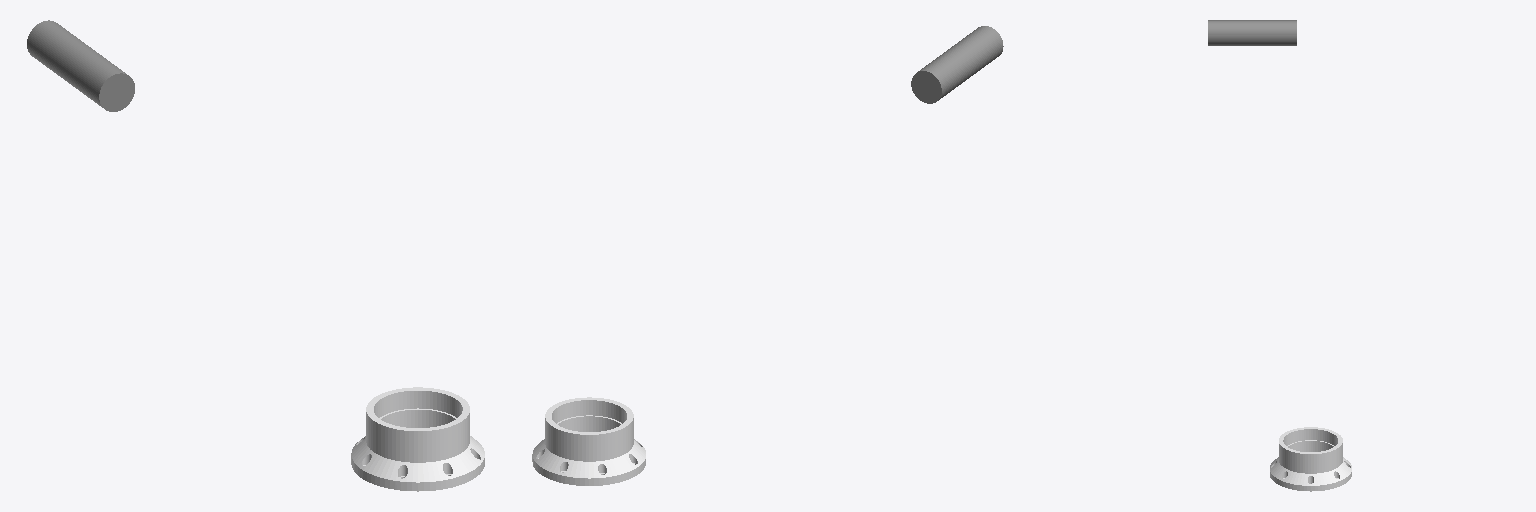
The robot description file, URDF, robot "urdfbot":
<robot name="urdfbot">
<link name="base_link">
<visual>
<origin xyz="1.7227260969490536535 0.27700031584743611823 0.24612486237179592719" rpy="-3.5469375559793907836e-16 -0 3.141592653589793116" />
<geometry>
<mesh filename="package://urdfbot_description/meshes/base_link.stl"/>
</geometry>
<material name="base_link_material">
<color rgba="0.96078431372549022438 0.96078431372549022438 0.96470588235294119084 1.0"/>
</material>
</visual>
<collision>
<origin xyz="1.7227260969490536535 0.27700031584743611823 0.24612486237179592719" rpy="-3.5469375559793907836e-16 -0 3.141592653589793116" />
<geometry>
<mesh filename="package://urdfbot_description/meshes/base_link.stl"/>
</geometry>
</collision>
<inertial>
<origin xyz="0 0 0" rpy="0 0 0"/>
<mass value="0" />
<inertia ixx="0" ixy="0"  ixz="0" iyy="0" iyz="0" izz="0" />
</inertial>
</link>

<link name="link1">
<visual>
<origin xyz="0.03250015792371752088 -0.10699999999999998401 -0.070000000000000062172" rpy="3.141592653589793116 1.9849778321506492044e-32 -7.6775902188929967409e-48" />
<geometry>
<mesh filename="package://urdfbot_description/meshes/link1.stl"/>
</geometry>
<material name="link1_material">
<color rgba="0.96078431372549022438 0.96078431372549022438 0.96470588235294119084 1.0"/>
</material>
</visual>
<collision>
<origin xyz="0.03250015792371752088 -0.10699999999999998401 -0.070000000000000062172" rpy="3.141592653589793116 1.9849778321506492044e-32 -7.6775902188929967409e-48" />
<geometry>
<mesh filename="package://urdfbot_description/meshes/link1.stl"/>
</geometry>
</collision>
<inertial>
<origin xyz="0 0 0" rpy="0 0 0"/>
<mass value="0" />
<inertia ixx="0" ixy="0"  ixz="0" iyy="0" iyz="0" izz="0" />
</inertial>
</link>

<link name="link2">
<visual>
<origin xyz="0 5.5511151231257827021e-17 -0.0040000000000000035527" rpy="1.570796326794896558 1.570796326794896558 0" />
<geometry>
<mesh filename="package://urdfbot_description/meshes/link2.stl"/>
</geometry>
<material name="link2_material">
<color rgba="0.62745098039215685404 0.62745098039215685404 0.62745098039215685404 1.0"/>
</material>
</visual>
<collision>
<origin xyz="0 5.5511151231257827021e-17 -0.0040000000000000035527" rpy="1.570796326794896558 1.570796326794896558 0" />
<geometry>
<mesh filename="package://urdfbot_description/meshes/link2.stl"/>
</geometry>
</collision>
<inertial>
<origin xyz="0 0 0" rpy="0 0 0"/>
<mass value="0" />
<inertia ixx="0" ixy="0"  ixz="0" iyy="0" iyz="0" izz="0" />
</inertial>
</link>

<link name="motor3">
<visual>
<origin xyz="-0.029777083599932918645 0.029999999999999971134 -0.18900000000000002909" rpy="2.9614347868533266562e-32 -1.9121081669451284926e-47 2.0449864956794634884e-48" />
<geometry>
<mesh filename="package://urdfbot_description/meshes/motor3.stl"/>
</geometry>
<material name="motor3_material">
<color rgba="0.62745098039215685404 0.62745098039215685404 0.62745098039215685404 1.0"/>
</material>
</visual>
<collision>
<origin xyz="-0.029777083599932918645 0.029999999999999971134 -0.18900000000000002909" rpy="2.9614347868533266562e-32 -1.9121081669451284926e-47 2.0449864956794634884e-48" />
<geometry>
<mesh filename="package://urdfbot_description/meshes/motor3.stl"/>
</geometry>
</collision>
<inertial>
<origin xyz="0 0 0" rpy="0 0 0"/>
<mass value="0" />
<inertia ixx="0" ixy="0"  ixz="0" iyy="0" iyz="0" izz="0" />
</inertial>
</link>

<joint name="joint4" type="fixed">
<origin xyz="0.45000000000000017764 5.5511151231257827021e-17 -0.0030000000000000581757" rpy="-3.141592653589793116 1.9121081669451284926e-47 -2.0449864956794634884e-48" />
<parent link="link2" />
<child link="motor3" />
<axis xyz="0 0 1"/>

</joint>

<link name="link3">
<visual>
<origin xyz="0.25000000000000022204 -0.11700000000000004841 -0.070000000000000006661" rpy="-1.570796326794896558 1.2883464875197931425e-31 -4.7158240237589775767e-17" />
<geometry>
<mesh filename="package://urdfbot_description/meshes/link3.stl"/>
</geometry>
<material name="link3_material">
<color rgba="0.62745098039215685404 0.62745098039215685404 0.62745098039215685404 1.0"/>
</material>
</visual>
<collision>
<origin xyz="0.25000000000000022204 -0.11700000000000004841 -0.070000000000000006661" rpy="-1.570796326794896558 1.2883464875197931425e-31 -4.7158240237589775767e-17" />
<geometry>
<mesh filename="package://urdfbot_description/meshes/link3.stl"/>
</geometry>
</collision>
<inertial>
<origin xyz="0 0 0" rpy="0 0 0"/>
<mass value="0" />
<inertia ixx="0" ixy="0"  ixz="0" iyy="0" iyz="0" izz="0" />
</inertial>
</link>

<link name="link4">
<visual>
<origin xyz="0 0 0" rpy="1.570796326794896558 1.570796326794896558 0" />
<geometry>
<mesh filename="package://urdfbot_description/meshes/link4.stl"/>
</geometry>
<material name="link4_material">
<color rgba="0.62745098039215685404 0.62745098039215685404 0.62745098039215685404 1.0"/>
</material>
</visual>
<collision>
<origin xyz="0 0 0" rpy="1.570796326794896558 1.570796326794896558 0" />
<geometry>
<mesh filename="package://urdfbot_description/meshes/link4.stl"/>
</geometry>
</collision>
<inertial>
<origin xyz="0 0 0" rpy="0 0 0"/>
<mass value="0" />
<inertia ixx="0" ixy="0"  ixz="0" iyy="0" iyz="0" izz="0" />
</inertial>
</link>

<link name="endeffector">
<visual>
<origin xyz="-0.021000000000000018652 -0.044267736659886716688 -0.0020000000000000017764" rpy="3.141592653589793116 -1.380379336551401247e-47 -1.0543268345982034461e-32" />
<geometry>
<mesh filename="package://urdfbot_description/meshes/endeffector.stl"/>
</geometry>
<material name="endeffector_material">
<color rgba="0.62745098039215685404 0.62745098039215685404 0.62745098039215685404 1.0"/>
</material>
</visual>
<collision>
<origin xyz="-0.021000000000000018652 -0.044267736659886716688 -0.0020000000000000017764" rpy="3.141592653589793116 -1.380379336551401247e-47 -1.0543268345982034461e-32" />
<geometry>
<mesh filename="package://urdfbot_description/meshes/endeffector.stl"/>
</geometry>
</collision>
<inertial>
<origin xyz="0 0 0" rpy="0 0 0"/>
<mass value="0" />
<inertia ixx="0" ixy="0"  ixz="0" iyy="0" iyz="0" izz="0" />
</inertial>
</link>

<link name="camera">
<visual>
<origin xyz="-0.0028298818114650403643 -0.0052382411106550175184 0.040793175428913697189" rpy="-2.3573741526866231034e-32 -6.2903186812521254127e-47 -5.3480498942879977652e-33" />
<geometry>
<mesh filename="package://urdfbot_description/meshes/camera.stl"/>
</geometry>
<material name="camera_material">
<color rgba="0 0.4000000000000000222 0.5999999999999999778 1.0"/>
</material>
</visual>
<collision>
<origin xyz="-0.0028298818114650403643 -0.0052382411106550175184 0.040793175428913697189" rpy="-2.3573741526866231034e-32 -6.2903186812521254127e-47 -5.3480498942879977652e-33" />
<geometry>
<mesh filename="package://urdfbot_description/meshes/camera.stl"/>
</geometry>
</collision>
<inertial>
<origin xyz="0 0 0" rpy="0 0 0"/>
<mass value="0" />
<inertia ixx="0" ixy="0"  ixz="0" iyy="0" iyz="0" izz="0" />
</inertial>
</link>

<joint name="joint9" type="fixed">
<origin xyz="0 0.0057322633401133415987 -0.04400000000000003908" rpy="3.141592653589793116 -4.542775275328014268e-31 6.6613381477509412147e-16" />
<parent link="endeffector" />
<child link="camera" />
<axis xyz="0 0 1"/>

</joint>

<joint name="joint8" type="continuous">
<origin xyz="0 0.090000000000000024425 -0.051000000000000045297" rpy="1.5707963267948970021 5.364715727473995986e-47 -2.2713876376640053824e-31" />
<parent link="link4" />
<child link="endeffector" />
<axis xyz="0 0 1"/>

</joint>

<joint name="joint7" type="continuous">
<origin xyz="0 2.2204460492503130808e-16 5.5511151231257827021e-17" rpy="3.141592653589793116 -4.4476893148458130919e-17 -0.57870963485806281579" />
<parent link="link3" />
<child link="link4" />
<axis xyz="0 0 1"/>

</joint>

<joint name="joint5" type="continuous">
<origin xyz="0.45000000000000012212 -2.7842311789427753865e-16 -0.028000000000000004052" rpy="-3.141592653589793116 4.6926895512185004369e-32 1.570796326794896558" />
<parent link="link2" />
<child link="link3" />
<axis xyz="0 0 1"/>

</joint>

<joint name="joint3" type="continuous">
<origin xyz="0.039500157923717499342 -0.0020000000000000017764 -0.074999999999999622524" rpy="-1.570796326794896336 9.2041737304391631365e-32 1.5707963267948961139" />
<parent link="link1" />
<child link="link2" />
<axis xyz="0 0 1"/>

</joint>

<joint name="joint1" type="continuous">
<origin xyz="1.7227260969490536535 0.27700031584743611823 0.29612486237179591608" rpy="3.141592653589793116 3.5469375559793902906e-16 -1.570796326794896558" />
<parent link="base_link" />
<child link="link1" />
<axis xyz="0 0 1"/>

</joint>


</robot>

--- What the picture shows (computed from the rendered views, not written in the file) ---
3 views of the same robot in one strip: view 1: azimuth 30°, elevation 25°; view 2: azimuth 150°, elevation 25°; view 3: azimuth 270°, elevation 25° (orthographic).
Model urdfbot with 8 links and 7 joints (5 continuous, 2 fixed), rooted at base_link, posed every joint at zero.
Links seen in each view (by area): view 1: base_link, link3; view 2: base_link, link3; view 3: base_link, link3.
Link boxes in pixels (box(x1,y1,x2,y2)): base_link: box(351, 387, 484, 491); link3: box(27, 20, 134, 111); base_link: box(532, 397, 645, 485); link3: box(911, 26, 1003, 103); base_link: box(1270, 427, 1351, 491); link3: box(1208, 20, 1296, 45).
Bounding box of the posed robot: 0.5365 × 0.236 × 0.606 m (x, y, z).
2 mesh visuals loaded from 8 distinct referenced files (2 binary STL); not drawn: 6 (reference not matched to a file when rendering).